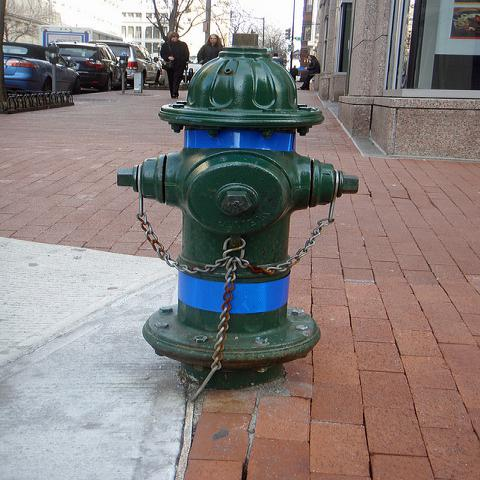car: (3, 42, 82, 95), (51, 41, 121, 93), (88, 40, 161, 86), (182, 62, 203, 82), (156, 58, 168, 85)
